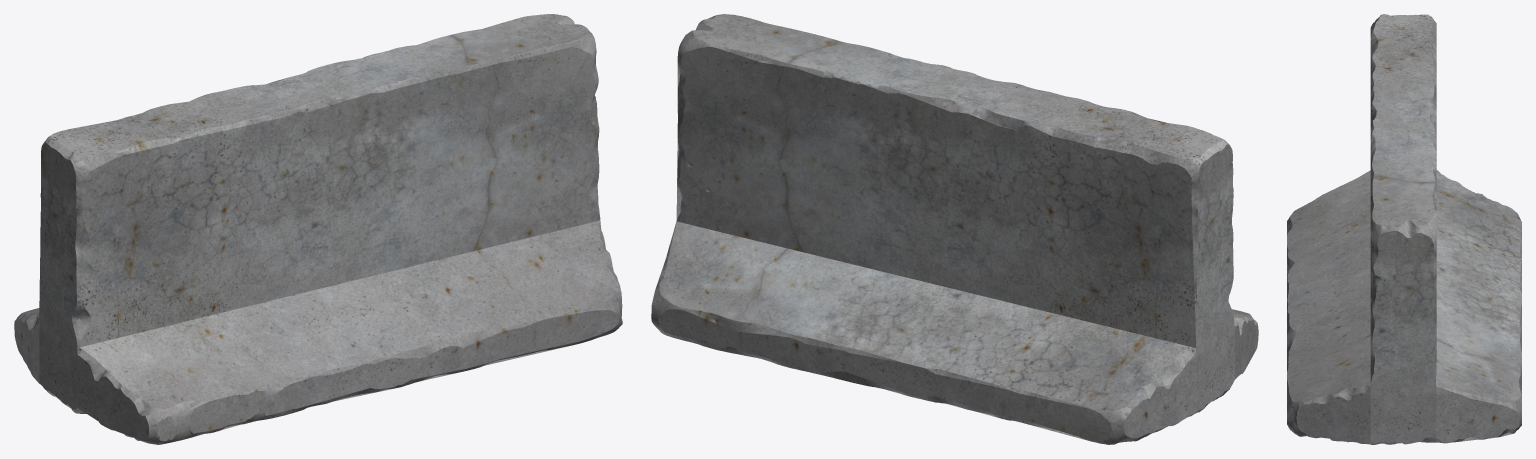
Rendered from Bet_blok_004-3 1.fbx.
3 views of the same model, side by side, from view 1: azimuth 30°, elevation 25°; view 2: azimuth 150°, elevation 25°; view 3: azimuth 270°, elevation 25° (orthographic). The views are drawn at different scales.
Parts seen in each view (by area): view 1: Plane.006_dmg.001; view 2: Plane.006_dmg.001; view 3: Plane.006_dmg.001.
Boxes of the visible parts, left/top/right/bottom form: Plane.006_dmg.001: left=14, top=14, right=622, bottom=444; Plane.006_dmg.001: left=651, top=14, right=1258, bottom=444; Plane.006_dmg.001: left=1287, top=14, right=1521, bottom=444.
Bounding box in the file's own units: 200 × 93.81 × 91.82.
